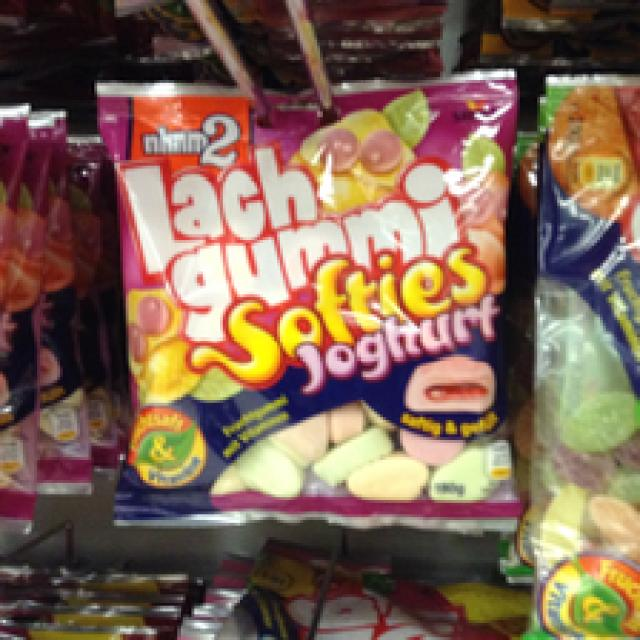groceries: (83, 72, 520, 534), (509, 74, 637, 600)
